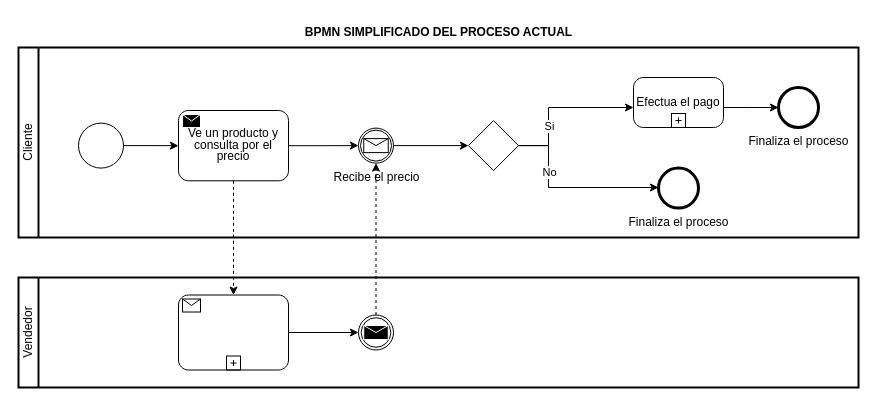
The diagram is 876 pixels wide and 405 high, and some of its shapes have lost their labels. Here are the shapes that lost their labels. From the top down, the centre of each, then its label:
[493,145]: ¿Lo lleva?
[233,332]: Recibe la consulta y busca el precio manualmente
[376,332]: Notifica el precio
